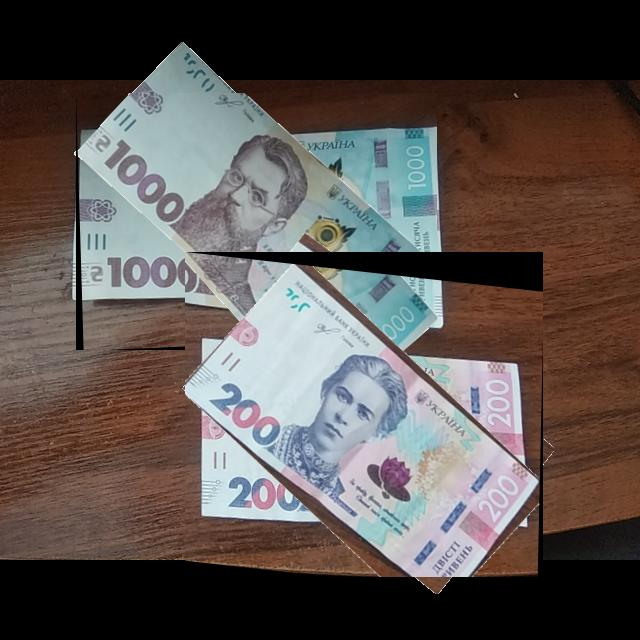1000uah: (76, 93, 438, 351)
200uah: (185, 262, 541, 578)
